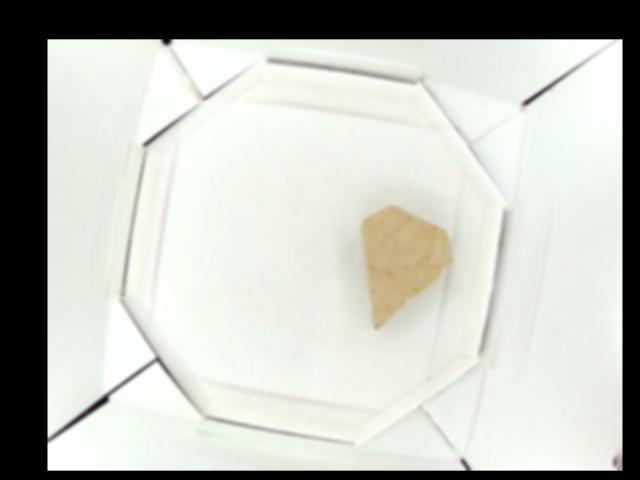China: (359, 203, 455, 328)
